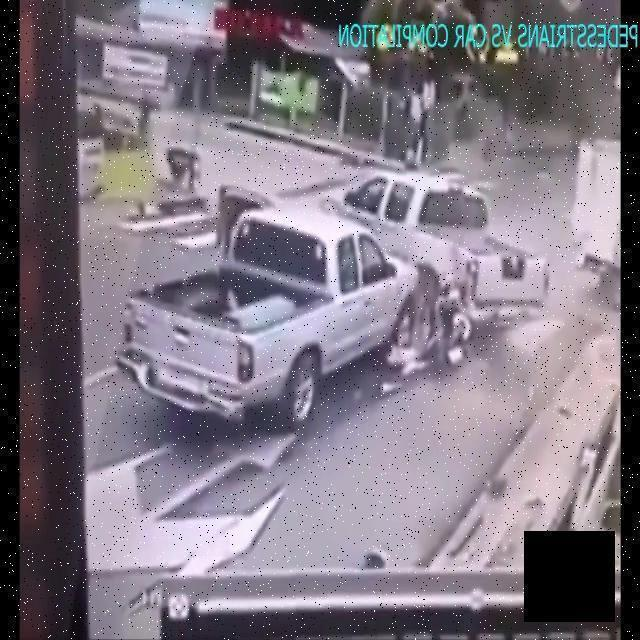accident: (116, 153, 556, 432)
